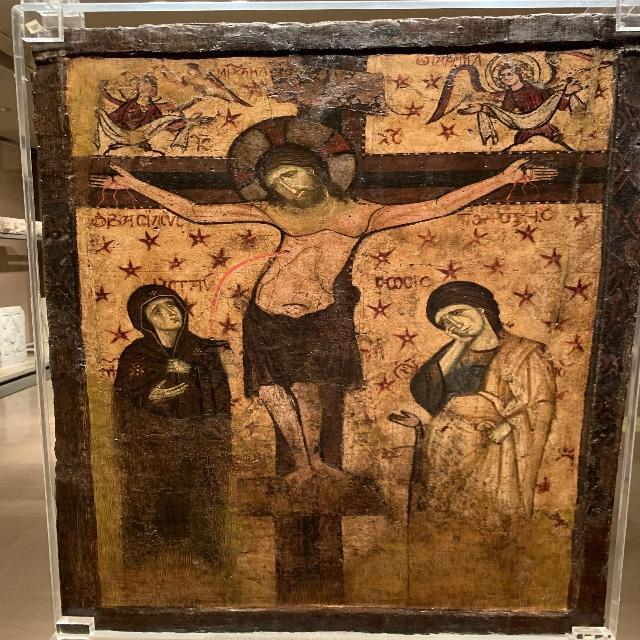angel: (418, 54, 611, 150), (93, 67, 233, 157)
blood: (180, 236, 396, 348)
christ_crucifix: (63, 58, 633, 640)
maria_magdalena: (397, 278, 555, 609)
mary: (102, 274, 251, 605)
